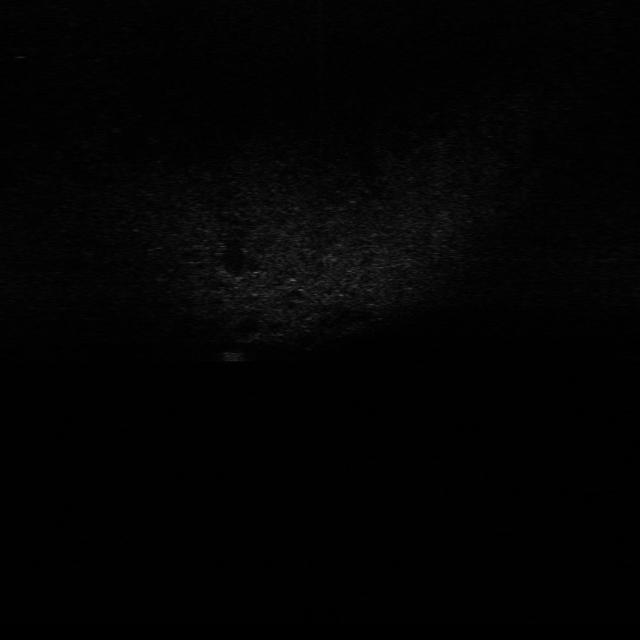cube: (223, 345, 246, 365)
